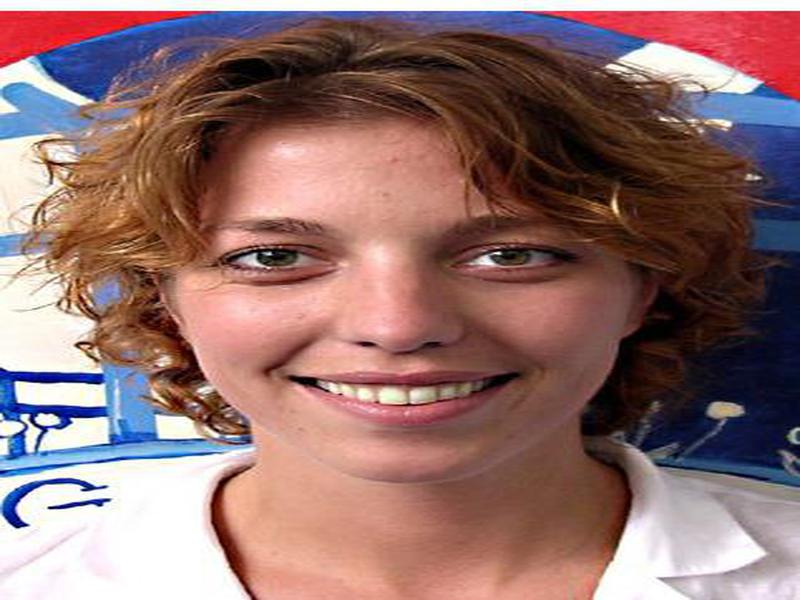without_mask: (163, 121, 629, 485)
